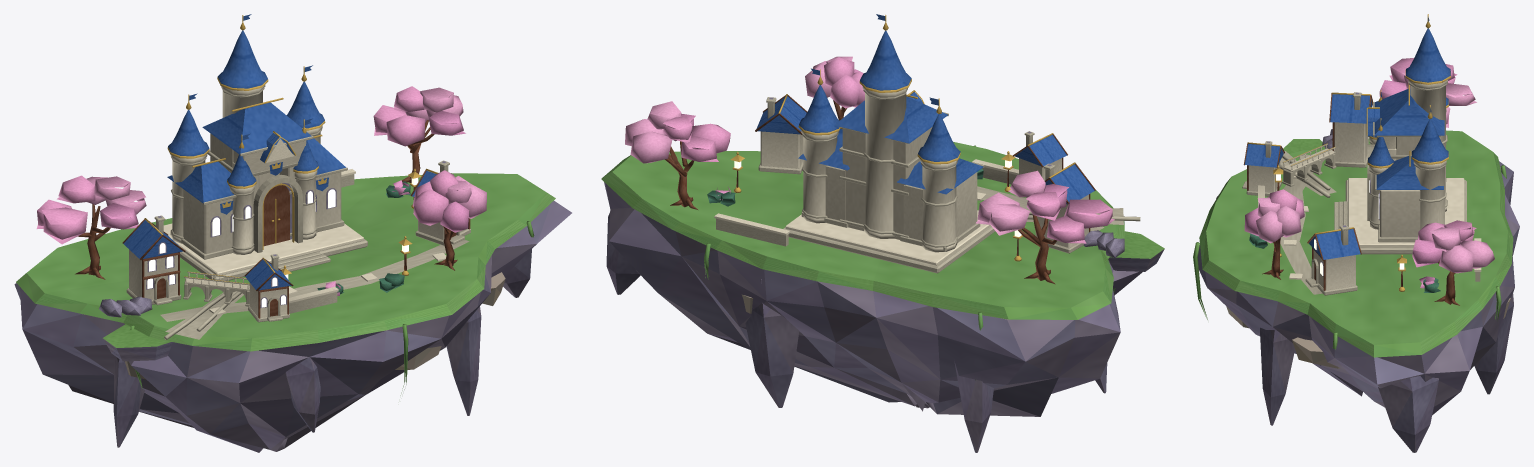
Rendered from royal-island-left-v2-low.glb.
3 views of the same model, side by side, from view 1: azimuth 30°, elevation 25°; view 2: azimuth 150°, elevation 25°; view 3: azimuth 270°, elevation 25° (orthographic). The views are drawn at different scales.
Visible parts, largest first — view 1: royal-island-left-v2; view 2: royal-island-left-v2; view 3: royal-island-left-v2.
Boxes of the visible parts, box(x1,y1,x2,y2) form: royal-island-left-v2: box(14, 14, 571, 452); royal-island-left-v2: box(601, 14, 1164, 452); royal-island-left-v2: box(1193, 14, 1519, 452).
Size of the model in its own units: 20.11 by 14.91 by 11.64.
10 materials, 10 textured.
